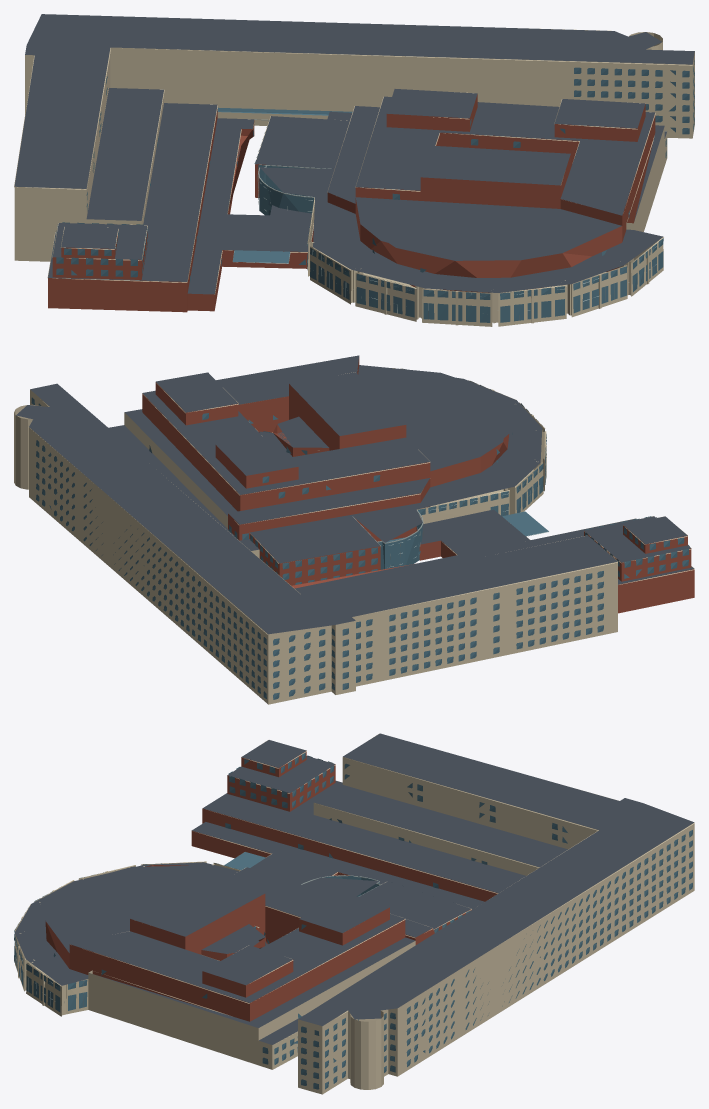
File: stadhuis.lod1.glb
The picture shows the model from 3 angles, top to bottom: view 1: azimuth 30°, elevation 25°; view 2: azimuth 150°, elevation 25°; view 3: azimuth 270°, elevation 25°; orthographic projection. The views are drawn at different scales.
Visible parts, largest first — view 1: stadhuis; view 2: stadhuis; view 3: stadhuis.
Boxes of the visible parts, x1=… form: stadhuis: x1=14, y1=14, x2=694, y2=326; stadhuis: x1=14, y1=355, x2=694, y2=704; stadhuis: x1=14, y1=733, x2=694, y2=1094.
Size of the model in its own units: 209 by 21.98 by 198.
